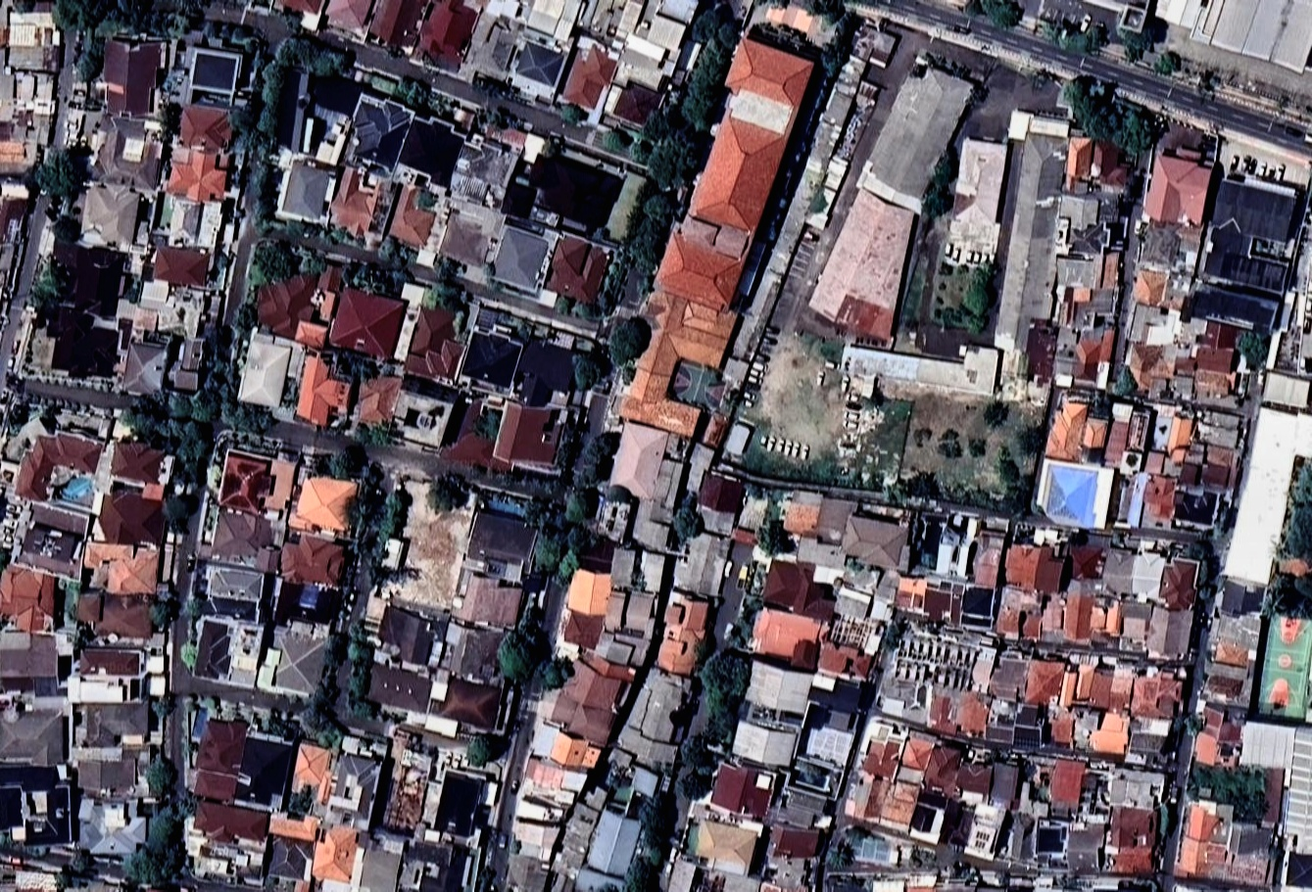building: (719, 35, 891, 391), (649, 29, 824, 313), (804, 184, 942, 352), (981, 107, 1069, 351), (604, 285, 738, 441), (856, 56, 978, 213), (1218, 401, 1312, 587), (1194, 169, 1311, 299), (498, 134, 630, 248), (838, 318, 1004, 400), (438, 387, 573, 481), (1156, 0, 1311, 73), (0, 413, 108, 511), (609, 658, 697, 768), (543, 655, 636, 749), (398, 283, 480, 388), (505, 324, 593, 420), (443, 110, 526, 211), (336, 90, 428, 178), (211, 434, 304, 521), (591, 564, 667, 670), (5, 494, 97, 581), (34, 302, 128, 384), (356, 587, 449, 669), (650, 574, 721, 681), (227, 326, 310, 417), (768, 751, 851, 840), (89, 424, 178, 506), (321, 157, 401, 248), (459, 502, 545, 586), (41, 232, 129, 314), (81, 109, 168, 190), (891, 621, 994, 689), (323, 283, 410, 363), (1023, 454, 1117, 528), (1178, 279, 1299, 336), (643, 586, 715, 680), (944, 137, 1003, 250), (91, 35, 171, 118), (76, 628, 161, 705), (547, 35, 622, 122), (456, 308, 529, 395), (677, 801, 764, 874), (0, 766, 77, 848), (483, 210, 558, 293), (618, 0, 701, 75), (745, 603, 829, 676), (184, 611, 262, 689), (285, 466, 362, 545), (254, 620, 330, 700), (623, 450, 685, 548), (380, 727, 440, 828), (382, 170, 454, 254), (380, 374, 457, 452), (391, 109, 468, 187), (1201, 609, 1262, 707), (1143, 144, 1218, 223), (286, 348, 357, 431), (429, 196, 506, 272), (541, 228, 615, 307), (984, 578, 1063, 652), (203, 500, 283, 572), (402, 0, 476, 77), (1003, 525, 1083, 595), (252, 265, 320, 347), (594, 59, 669, 133), (733, 656, 812, 726), (602, 420, 670, 501), (502, 795, 566, 881), (273, 521, 351, 591), (717, 298, 775, 392), (430, 671, 511, 738), (120, 325, 200, 392), (194, 559, 276, 624), (502, 29, 575, 102), (780, 483, 863, 547), (269, 148, 337, 226), (187, 713, 247, 801), (456, 13, 523, 91), (319, 750, 382, 831), (235, 725, 295, 810), (556, 565, 615, 651), (680, 467, 749, 540), (0, 703, 75, 770), (80, 537, 162, 598), (840, 768, 918, 832), (704, 750, 778, 817), (130, 277, 207, 341), (92, 484, 169, 548), (553, 780, 609, 868), (267, 579, 351, 637), (432, 617, 506, 682), (71, 745, 157, 800), (187, 797, 268, 855), (271, 63, 323, 152), (761, 558, 839, 617), (78, 793, 150, 855), (448, 569, 522, 629), (282, 742, 338, 821), (0, 559, 60, 632), (0, 630, 66, 696), (670, 527, 732, 597), (721, 714, 796, 771), (581, 804, 641, 875), (429, 766, 487, 839), (71, 699, 161, 746), (800, 672, 865, 736), (1078, 652, 1138, 721), (164, 142, 230, 204), (1277, 726, 1309, 853), (179, 46, 243, 109), (839, 513, 908, 571), (1133, 218, 1204, 274), (77, 183, 144, 242), (362, 660, 434, 713), (0, 70, 54, 139), (755, 815, 824, 869), (1057, 583, 1118, 644), (932, 506, 981, 580), (1190, 702, 1246, 766), (156, 192, 220, 247), (176, 100, 242, 153), (854, 714, 907, 780), (1103, 541, 1164, 598), (1221, 821, 1275, 885), (1122, 664, 1189, 715), (78, 594, 157, 637), (1174, 440, 1239, 492), (2, 12, 59, 70), (1116, 337, 1176, 392), (521, 755, 588, 804), (1122, 467, 1174, 530), (1122, 709, 1180, 765), (1016, 647, 1069, 707), (69, 669, 162, 703), (365, 0, 429, 49), (1144, 601, 1197, 659), (1124, 265, 1189, 312), (1041, 399, 1089, 462), (825, 605, 888, 653), (302, 68, 361, 119), (811, 640, 875, 687), (890, 727, 938, 789), (962, 800, 1010, 860), (873, 673, 932, 721), (969, 514, 1008, 586), (1239, 720, 1298, 767), (149, 241, 209, 287), (921, 737, 966, 798), (1155, 555, 1204, 611), (546, 729, 603, 777), (1042, 753, 1089, 810), (946, 744, 993, 801), (1214, 574, 1268, 623), (1169, 484, 1222, 533), (1122, 301, 1177, 348), (564, 565, 614, 616), (507, 814, 559, 862), (575, 647, 637, 687), (1188, 405, 1243, 450), (1176, 794, 1232, 838), (515, 1, 585, 36), (918, 575, 966, 626), (574, 0, 635, 40), (935, 796, 979, 851), (792, 532, 849, 574), (1045, 701, 1090, 754), (352, 371, 395, 426), (796, 724, 852, 766), (906, 789, 948, 843), (1022, 320, 1058, 383), (1110, 806, 1161, 850), (1101, 402, 1135, 468), (1056, 252, 1116, 289), (306, 819, 360, 859), (1083, 705, 1130, 750), (1065, 531, 1109, 579), (987, 646, 1028, 697), (1179, 837, 1234, 875), (0, 180, 32, 244), (951, 684, 991, 734), (1069, 285, 1123, 322), (362, 822, 406, 867), (1260, 370, 1312, 408), (1113, 766, 1165, 804), (593, 495, 633, 544), (1049, 357, 1111, 388), (323, 0, 376, 36), (1190, 367, 1242, 403), (1187, 342, 1237, 379), (921, 686, 960, 733), (1092, 0, 1149, 32), (1011, 700, 1047, 750), (1192, 318, 1241, 354), (0, 133, 39, 178), (890, 568, 928, 614), (578, 533, 618, 576), (838, 557, 883, 595), (1068, 324, 1116, 359), (1031, 812, 1067, 858), (831, 584, 874, 622), (986, 753, 1019, 802), (1165, 412, 1196, 464), (1058, 234, 1121, 259), (1113, 597, 1150, 639), (622, 588, 656, 633), (398, 831, 454, 858), (735, 492, 770, 535), (265, 809, 316, 838), (697, 409, 732, 450), (720, 418, 755, 459), (960, 584, 991, 630), (1066, 826, 1107, 860), (1074, 414, 1110, 452), (636, 550, 667, 593), (604, 742, 639, 780), (984, 699, 1017, 739), (594, 634, 635, 666), (529, 718, 561, 759), (608, 544, 637, 589), (1007, 810, 1034, 858), (626, 763, 663, 798), (316, 259, 347, 293), (1107, 846, 1149, 871), (873, 567, 902, 603), (291, 318, 327, 346), (730, 523, 761, 552), (280, 0, 327, 14), (408, 261, 437, 282), (689, 461, 696, 492)
tree: (637, 118, 715, 200), (687, 644, 750, 740), (25, 136, 97, 206), (1070, 84, 1133, 147), (1105, 98, 1166, 161), (486, 625, 547, 687), (1276, 459, 1312, 558), (669, 726, 729, 785), (272, 33, 350, 78), (596, 311, 657, 368), (290, 694, 346, 752), (20, 255, 72, 314), (618, 214, 668, 275), (159, 410, 216, 463), (672, 76, 724, 133), (595, 243, 636, 315), (1188, 757, 1265, 794), (218, 390, 276, 438), (245, 237, 301, 286), (572, 428, 617, 488), (921, 146, 958, 217), (114, 393, 171, 439), (123, 845, 184, 887), (684, 0, 731, 48), (664, 494, 711, 542), (532, 647, 579, 694), (638, 793, 669, 863), (723, 595, 763, 649), (959, 0, 1024, 33), (1054, 69, 1100, 115), (1228, 325, 1273, 371), (340, 487, 385, 531), (960, 262, 996, 317), (689, 41, 732, 87), (1266, 574, 1310, 618), (419, 472, 464, 515), (139, 751, 182, 794), (811, 32, 853, 76), (318, 442, 362, 483), (1037, 17, 1087, 53), (529, 528, 568, 574), (388, 71, 432, 111), (377, 488, 407, 545), (252, 160, 275, 233), (145, 802, 176, 855), (567, 350, 607, 391), (51, 0, 111, 27), (1000, 472, 1036, 517), (98, 0, 148, 32), (331, 349, 379, 381), (373, 236, 419, 269), (200, 368, 238, 407), (458, 732, 496, 771), (279, 779, 314, 821), (640, 189, 678, 227), (754, 520, 792, 558), (0, 396, 39, 433), (559, 521, 598, 558), (709, 15, 746, 54), (553, 420, 581, 471), (222, 95, 259, 133), (637, 106, 673, 145), (798, 0, 848, 27), (134, 3, 172, 38), (1104, 364, 1139, 401), (549, 549, 583, 587), (257, 59, 285, 104), (499, 470, 562, 490), (819, 840, 855, 875), (168, 456, 206, 489), (365, 267, 409, 295), (1075, 22, 1110, 57), (950, 488, 1003, 511), (674, 765, 704, 805), (160, 494, 192, 531), (905, 472, 943, 503), (187, 389, 222, 422), (477, 103, 522, 128), (517, 494, 550, 528), (158, 9, 193, 41), (1208, 500, 1239, 535), (341, 660, 371, 696), (625, 854, 655, 890), (143, 596, 175, 629), (471, 407, 503, 440), (469, 74, 507, 101), (343, 636, 375, 668), (70, 50, 103, 81), (342, 690, 376, 720), (515, 602, 544, 637), (831, 12, 861, 44), (876, 477, 908, 507), (304, 680, 337, 709), (1116, 27, 1145, 60), (48, 213, 82, 241), (564, 487, 592, 521), (202, 348, 233, 378), (297, 247, 328, 277), (538, 505, 569, 535), (624, 136, 654, 167), (996, 445, 1017, 489), (322, 633, 348, 668), (203, 324, 234, 353), (1087, 388, 1116, 419), (353, 424, 395, 445), (157, 105, 182, 140), (1151, 802, 1176, 837), (255, 128, 284, 158), (1016, 425, 1045, 455), (936, 425, 963, 457), (1193, 552, 1220, 584), (79, 24, 104, 58), (147, 691, 176, 720), (233, 124, 263, 152), (981, 400, 1013, 426), (939, 300, 971, 326), (555, 100, 588, 125), (437, 281, 464, 311), (418, 276, 444, 307), (798, 760, 828, 786), (229, 306, 258, 332), (161, 390, 192, 414), (625, 209, 645, 246), (253, 101, 276, 133), (68, 845, 95, 872), (171, 795, 198, 822), (1244, 789, 1269, 818), (279, 215, 306, 241), (908, 420, 935, 446), (1178, 712, 1203, 740), (842, 820, 872, 843), (343, 261, 370, 286), (364, 560, 391, 585), (630, 181, 655, 208), (883, 620, 906, 649), (175, 640, 200, 665), (601, 127, 626, 152), (367, 535, 389, 563), (601, 483, 631, 503), (266, 715, 292, 738), (572, 301, 601, 321), (656, 96, 680, 120), (691, 635, 714, 660), (1181, 539, 1207, 561), (274, 9, 302, 29), (228, 22, 251, 46), (964, 433, 988, 456), (244, 69, 267, 92), (316, 228, 349, 244), (436, 258, 460, 280), (1228, 792, 1250, 816), (51, 866, 73, 889), (481, 273, 506, 293), (70, 626, 92, 647), (417, 186, 438, 208), (969, 311, 987, 336), (120, 281, 141, 302), (184, 599, 203, 620), (177, 0, 207, 13), (62, 578, 86, 594), (240, 33, 259, 53), (551, 295, 570, 315), (30, 840, 51, 858), (348, 623, 367, 641), (1196, 580, 1214, 599), (201, 21, 219, 39), (1214, 785, 1233, 802), (12, 0, 34, 14), (216, 22, 232, 39), (251, 53, 267, 70), (354, 735, 370, 751), (261, 874, 277, 890), (378, 363, 396, 376), (182, 739, 197, 754), (636, 277, 651, 292), (362, 466, 376, 482), (201, 694, 216, 708), (515, 327, 531, 340), (1186, 784, 1199, 796), (283, 879, 295, 891), (183, 700, 195, 710), (0, 833, 8, 847)
